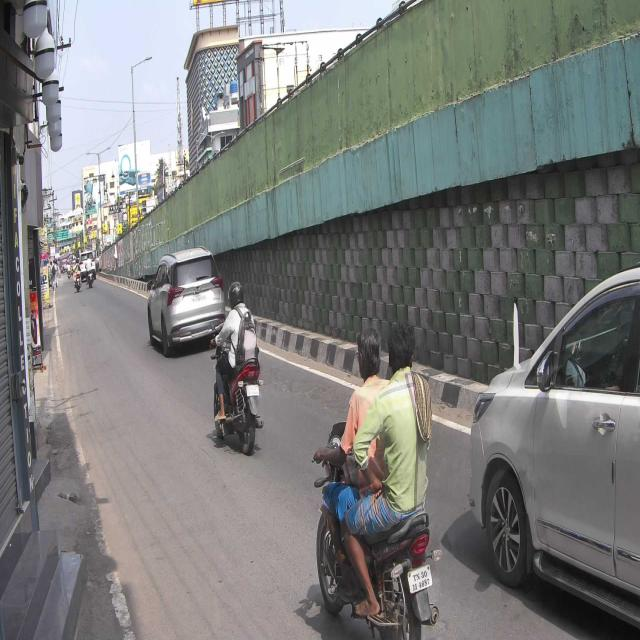double_rider: (313, 315, 441, 640)
single_rider: (209, 279, 267, 454)
